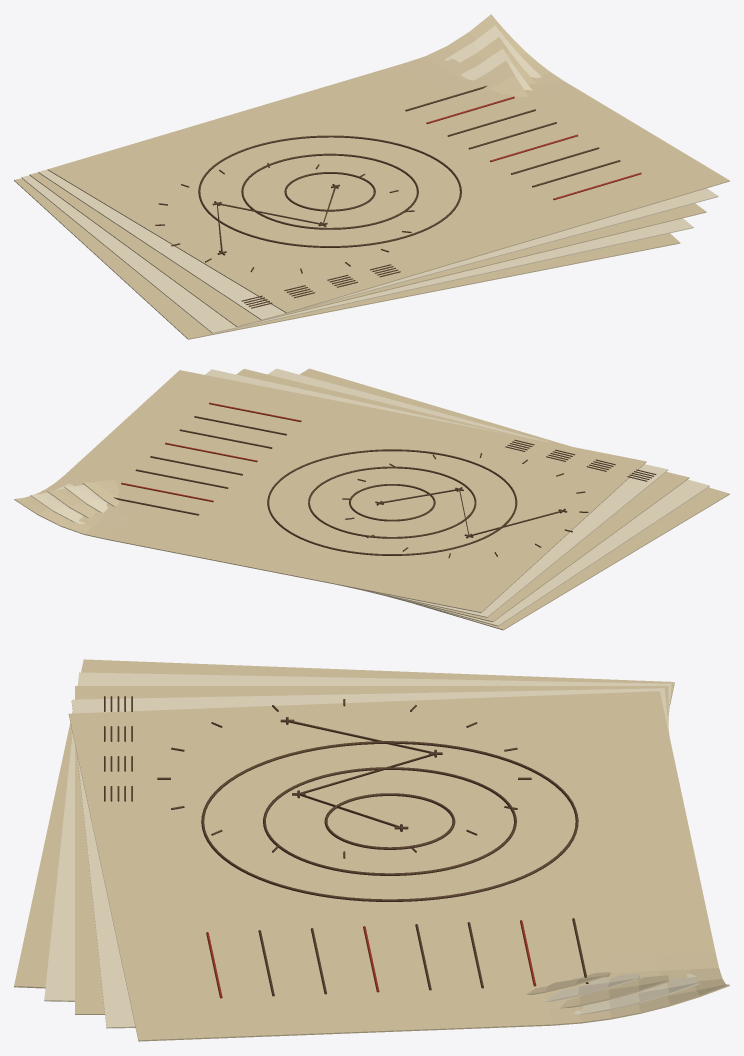
The picture shows the model from 3 angles, top to bottom: view 1: azimuth 30°, elevation 25°; view 2: azimuth 150°, elevation 25°; view 3: azimuth 270°, elevation 25°; orthographic projection. The views are drawn at different scales.
Parts seen in each view (by area): view 1: Loose curled research leaf.004, Loose curled research leaf, Loose curled research leaf.002, Loose curled research leaf.003, Loose curled research leaf.001, Astral diagram.002, Astral diagram.001, Astral diagram; view 2: Loose curled research leaf.004, Loose curled research leaf, Loose curled research leaf.003, Loose curled research leaf.002, Loose curled research leaf.001, Astral diagram.002, Astral diagram.001, Astral diagram, Constellation construction; view 3: Loose curled research leaf.004, Loose curled research leaf.003, Loose curled research leaf.002, Loose curled research leaf.001, Loose curled research leaf, Astral diagram.002, Astral diagram.001, Constellation construction, Astral diagram.
Part boxes in pixels (left/top/right/bottom): Loose curled research leaf.004: left=47, top=14, right=729, bottom=313; Loose curled research leaf: left=14, top=60, right=680, bottom=339; Loose curled research leaf.002: left=29, top=37, right=706, bottom=326; Loose curled research leaf.003: left=38, top=25, right=718, bottom=320; Loose curled research leaf.001: left=21, top=48, right=693, bottom=333; Astral diagram.002: left=198, top=135, right=461, bottom=247; Astral diagram.001: left=241, top=153, right=418, bottom=229; Astral diagram: left=284, top=172, right=375, bottom=211; Loose curled research leaf.004: left=14, top=370, right=646, bottom=612; Loose curled research leaf: left=82, top=368, right=729, bottom=630; Loose curled research leaf.003: left=30, top=369, right=668, bottom=617; Loose curled research leaf.002: left=47, top=369, right=689, bottom=622; Loose curled research leaf.001: left=64, top=368, right=709, bottom=626; Astral diagram.002: left=267, top=449, right=517, bottom=555; Astral diagram.001: left=308, top=466, right=476, bottom=538; Astral diagram: left=349, top=484, right=435, bottom=521; Constellation construction: left=380, top=489, right=561, bottom=535; Loose curled research leaf.004: left=68, top=691, right=729, bottom=1041; Loose curled research leaf.003: left=71, top=688, right=699, bottom=1028; Loose curled research leaf.002: left=75, top=686, right=668, bottom=1014; Loose curled research leaf.001: left=44, top=672, right=671, bottom=1001; Loose curled research leaf: left=14, top=659, right=674, bottom=994; Astral diagram.002: left=201, top=741, right=578, bottom=901; Astral diagram.001: left=263, top=767, right=516, bottom=875; Constellation construction: left=288, top=720, right=434, bottom=826; Astral diagram: left=324, top=793, right=455, bottom=849.
Size of the model in its own units: 0.406 by 0.0218 by 0.3137.
